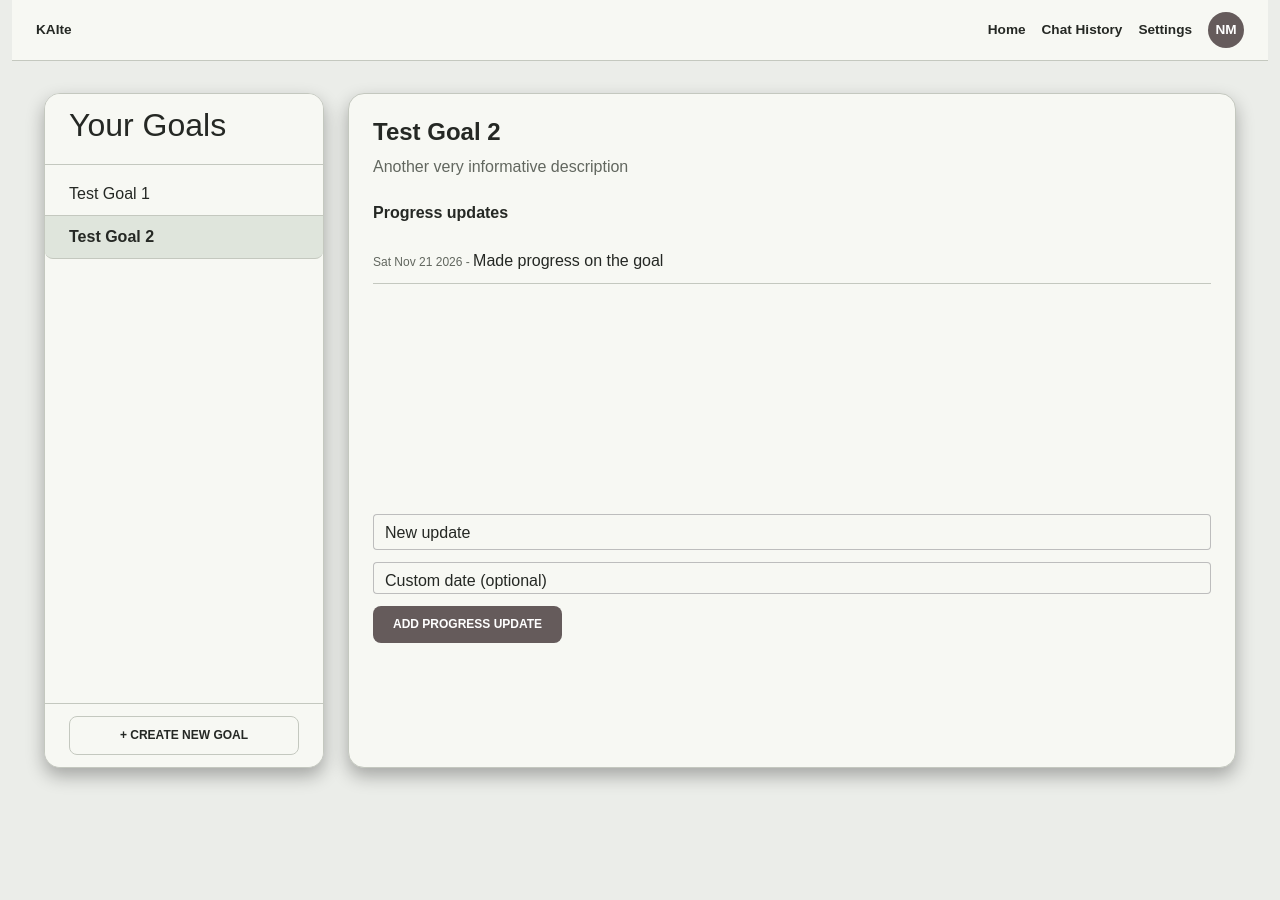
Test: when goal creation pane is displayed and user clicks Cancel button, displays selected goal pane
The image size is (1280, 900).
Step 1. Click the button "+ Create New Goal" → coordinates (184, 735), box [69,716,299,755]
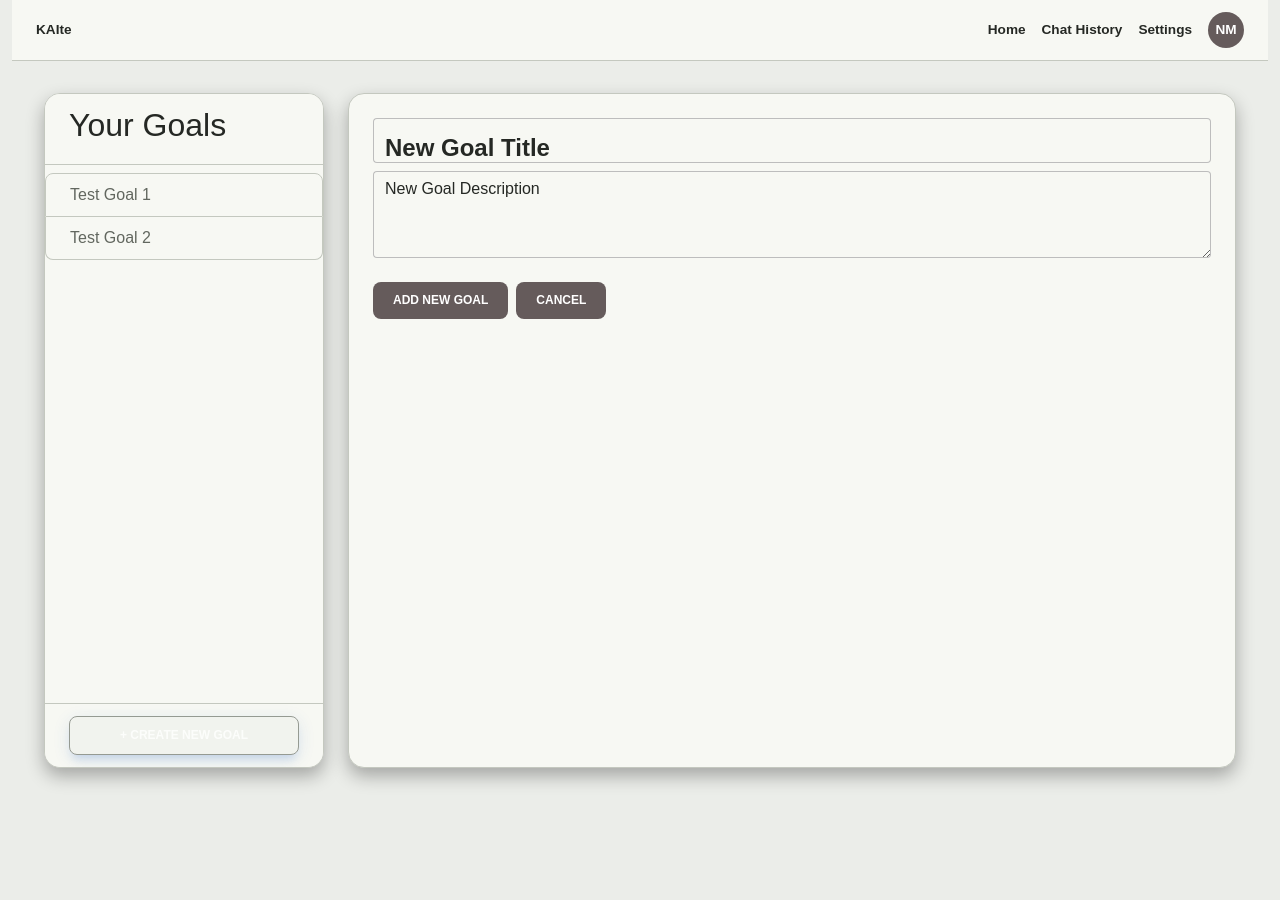
// user action
Step 2. Click the button "Cancel" → coordinates (561, 300), box [516,282,606,319]
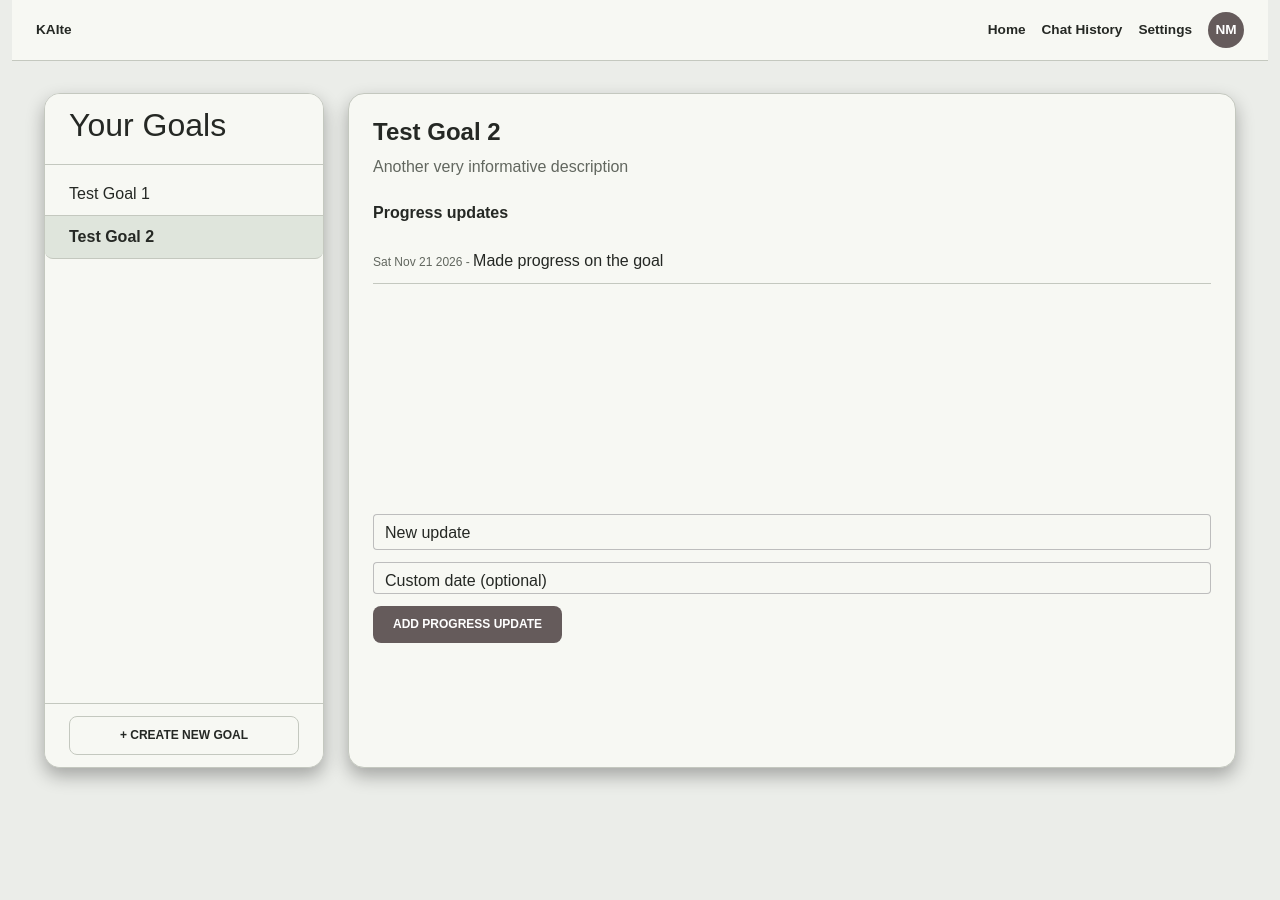
Check: the heading "Test Goal 2" is shown, box [373,118,501,145]
Check: the text "Another very informative description" is shown, box [373,158,628,175]
Check: the field with placeholder "Add a progress update..." is shown, box [373,514,1211,550]
